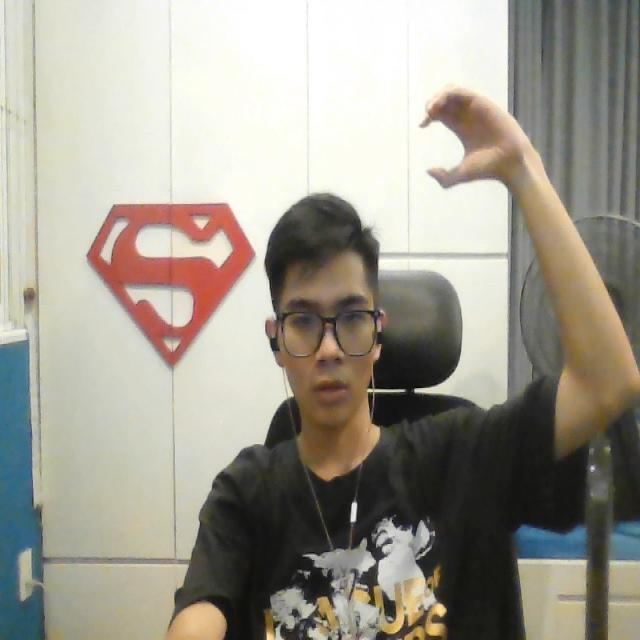C: (414, 81, 505, 192)
